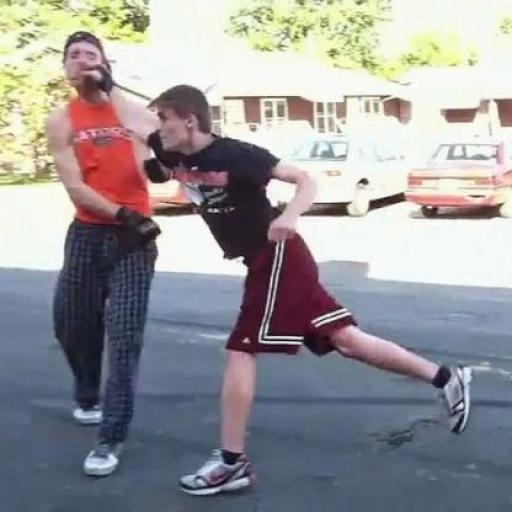Fighting: (53, 34, 473, 499)
